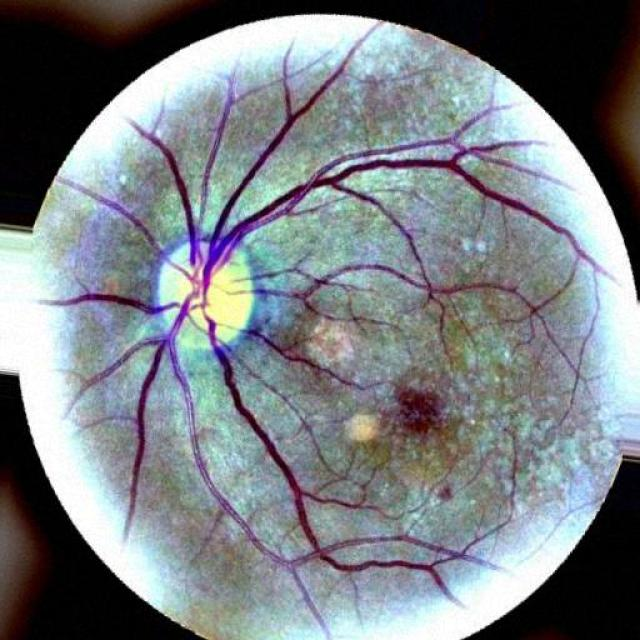Nerves: (45, 21, 609, 604), (72, 186, 281, 414), (130, 365, 154, 514)
Optic Disk: (152, 238, 255, 349)
